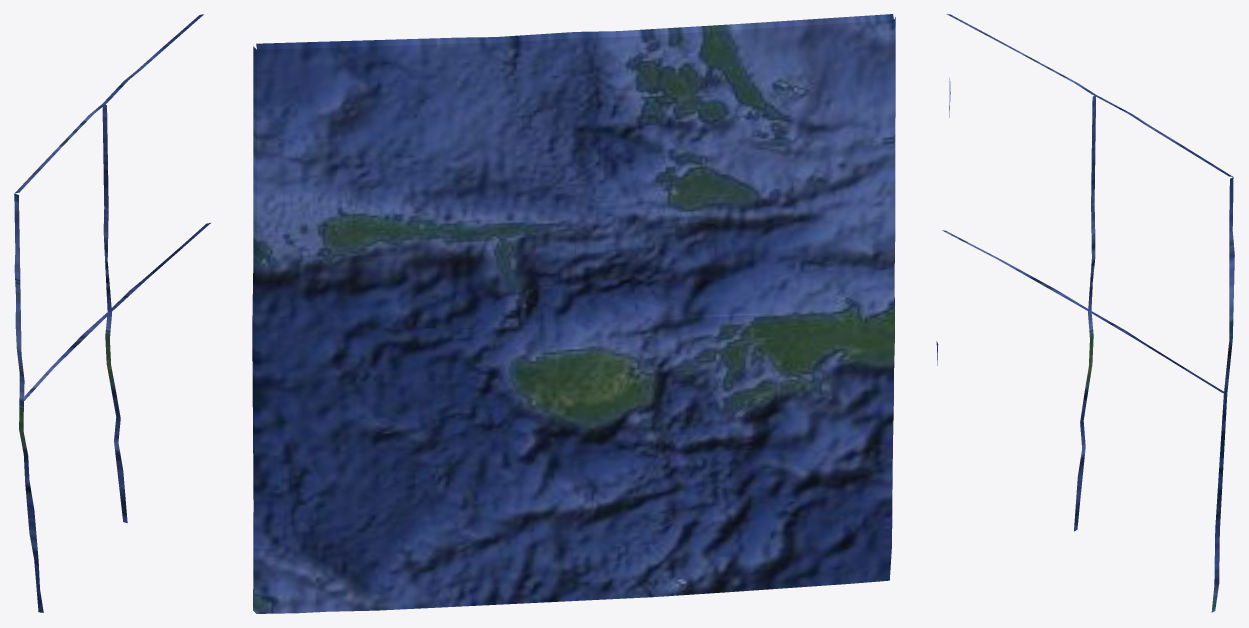
3 renders of one model, left to right at view 1: azimuth 30°, elevation 25°; view 2: azimuth 150°, elevation 25°; view 3: azimuth 270°, elevation 25°, orthographic. The views are drawn at different scales.
Bounding box in the file's own units: 526964 × 628194 × 408554.
Materials: 1 (1 with a texture image).
